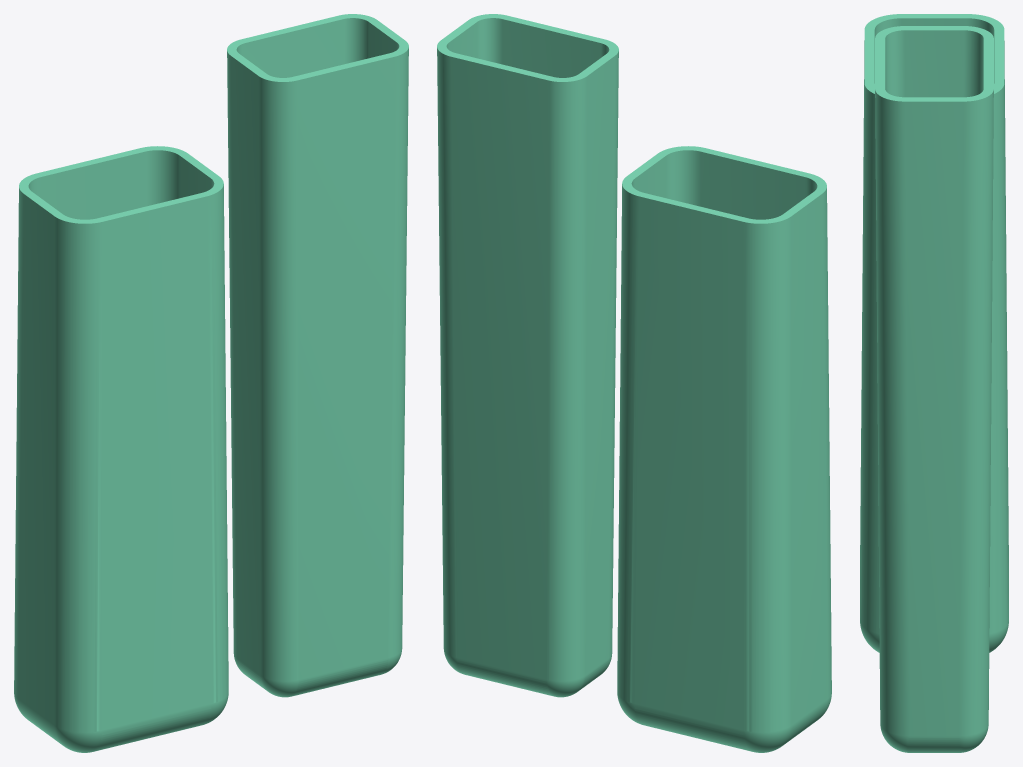
The model's file is toothbrush_holder.glb.
3 renders of one model, left to right at view 1: azimuth 30°, elevation 25°; view 2: azimuth 150°, elevation 25°; view 3: azimuth 270°, elevation 25°, orthographic. The views are drawn at different scales.
Parts seen in each view (by area): view 1: Toothbrush_holder.1; view 2: Toothbrush_holder.1; view 3: Toothbrush_holder.1.
Part boxes in pixels (left/top/right/bottom): Toothbrush_holder.1: left=14, top=14, right=408, bottom=752; Toothbrush_holder.1: left=437, top=14, right=831, bottom=752; Toothbrush_holder.1: left=860, top=14, right=1008, bottom=752.
Size of the model in its own units: 0.722 by 1.22 by 0.2483.
Materials: 1 (1 with a texture image).
